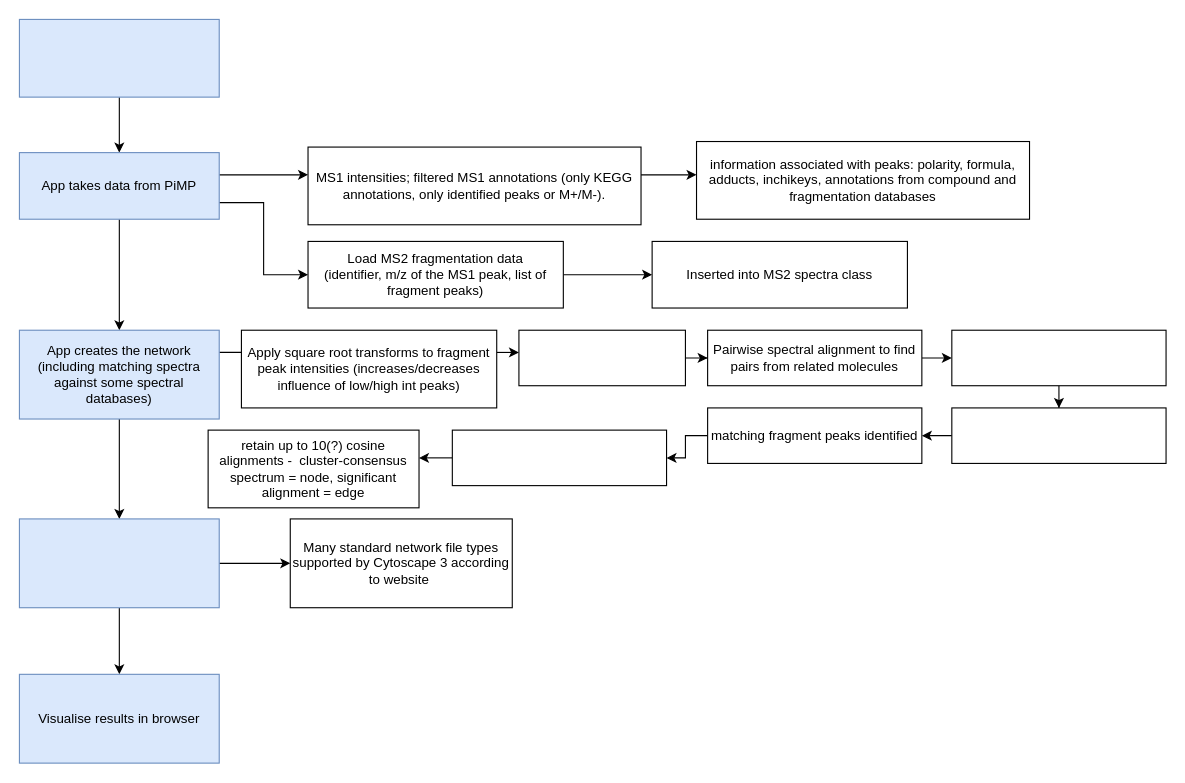
The diagram is 1185 pixels wide and 783 high, and some of its shapes have lost their labels. Here are the shapes that lost their labels. From the top down, the centre of each, then its label:
[118,57]: Web app that allows for entering of PiMP experiment details
[601,357]: Scale to Euclidian norm 1
[1058,357]: Select significant pairwise alignments to define the network
[1058,435]: precursor mass calculated
[559,457]: pairs considered for alignment if m differs by <45% and up to 400Da
[118,563]: App exports network in a format suitable for CytoScape
